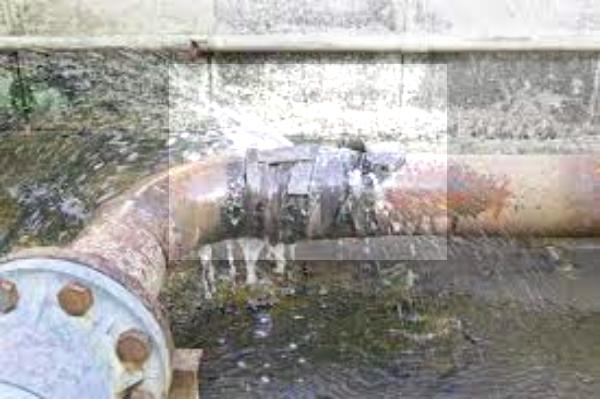water: (169, 64, 447, 260)
